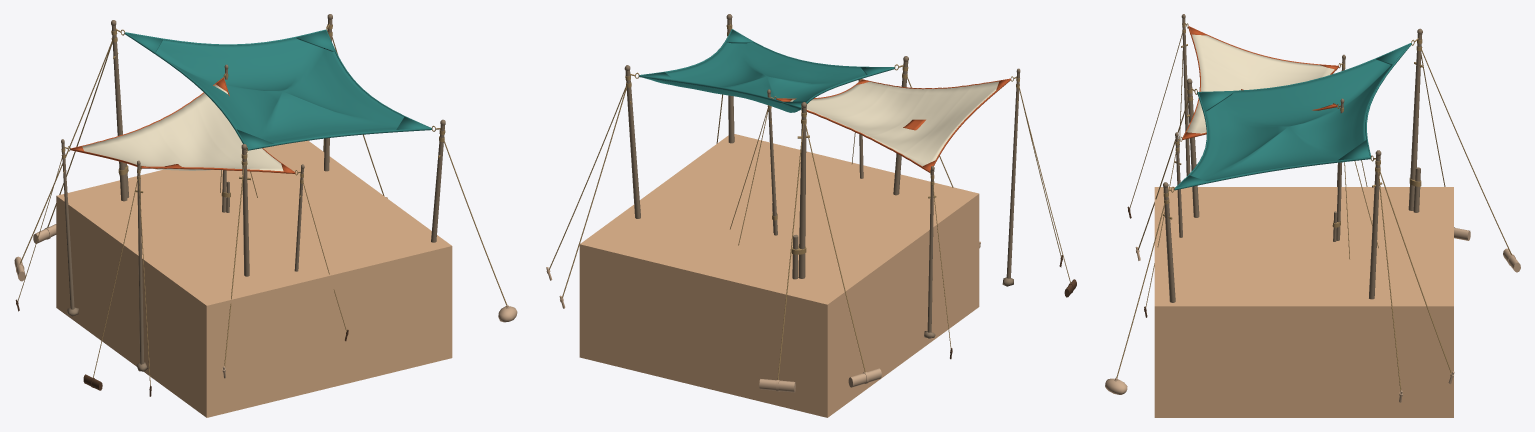
Rendered from nomad_tinker_tent.fbx.
3 views of the same model, side by side, from view 1: azimuth 30°, elevation 25°; view 2: azimuth 150°, elevation 25°; view 3: azimuth 270°, elevation 25° (orthographic).
Parts seen in each view (by area): view 1: NomadTinkerTent; view 2: NomadTinkerTent; view 3: NomadTinkerTent.
Boxes of the visible parts, <box> form: NomadTinkerTent: <box>14,14,517,417</box>; NomadTinkerTent: <box>546,14,1076,417</box>; NomadTinkerTent: <box>1105,14,1520,417</box>.
Size of the model in its own units: 1686 by 1138 by 1482.
